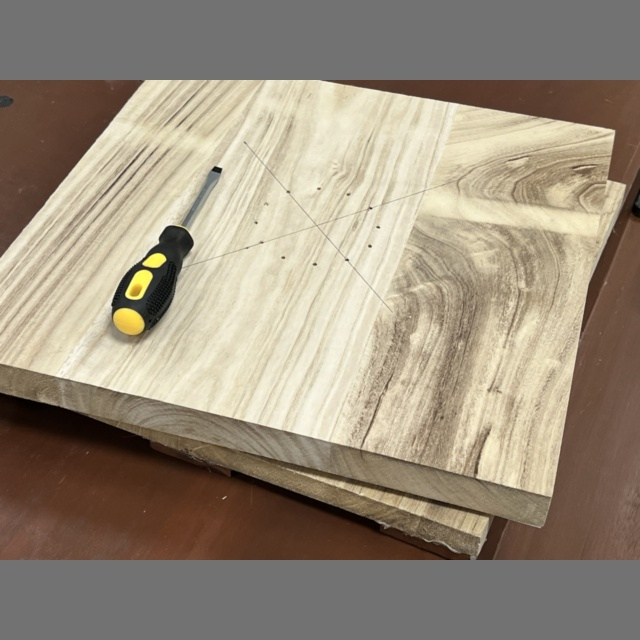screwdriver: (111, 167, 221, 335)
